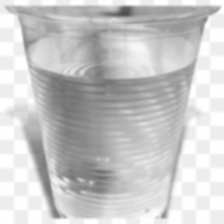glass: (4, 2, 221, 221)
